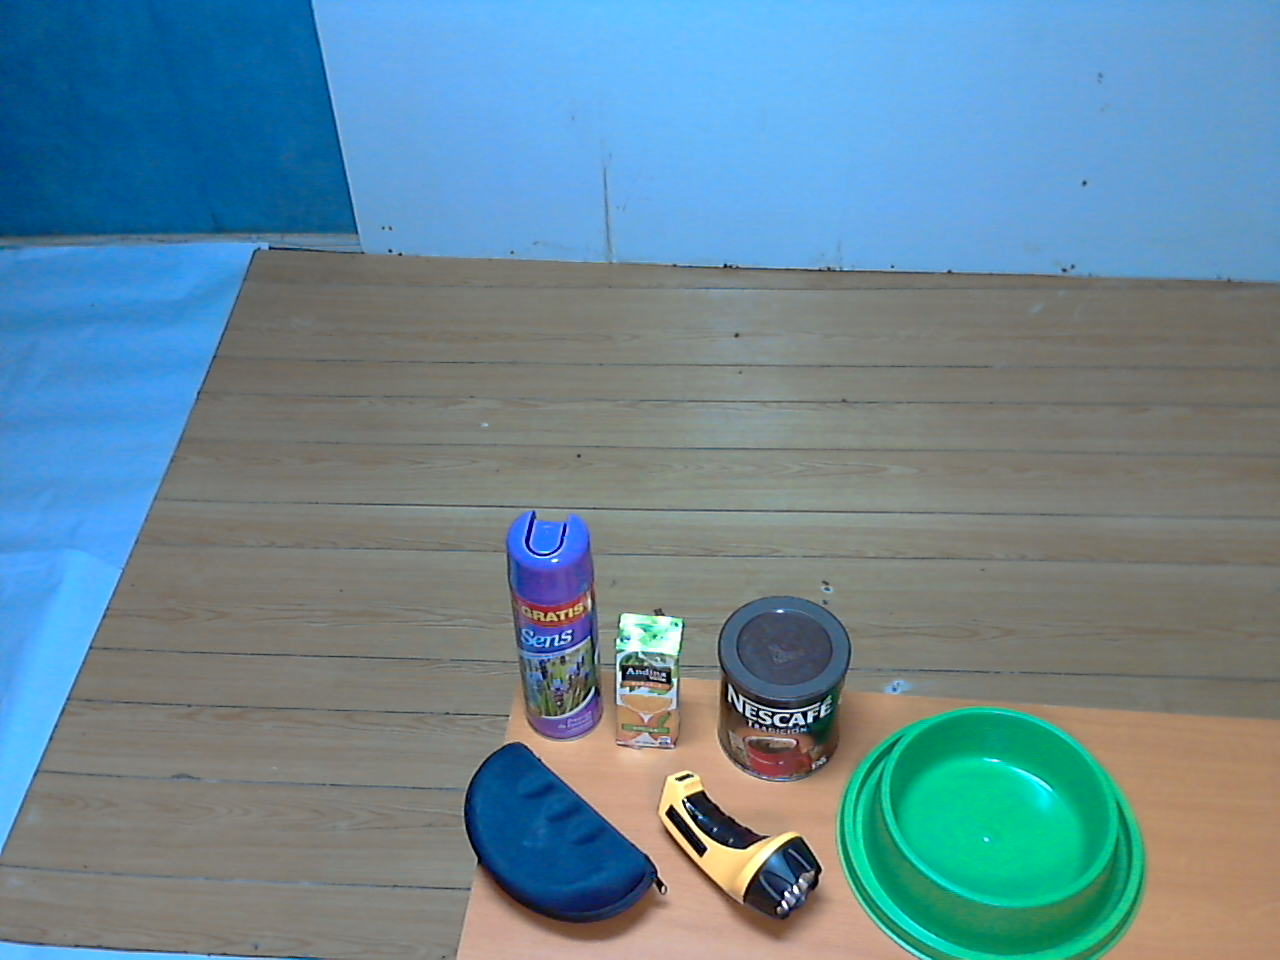aerosol: (496, 503, 623, 751)
cafe: (710, 592, 858, 788)
estuche: (452, 734, 671, 932)
jugoind: (604, 598, 696, 760)
linterna: (646, 766, 833, 928)
platoperro: (835, 694, 1149, 960)
